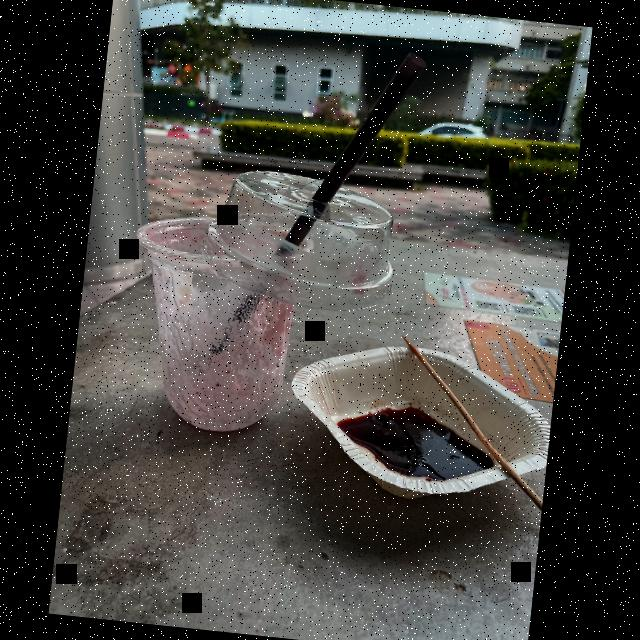cardboard_bowl: (272, 320, 554, 521)
plastic_cup: (110, 202, 312, 444)
plastic_cup_lid: (191, 156, 413, 325)
stick: (398, 330, 544, 526)
straw: (185, 43, 438, 386)
